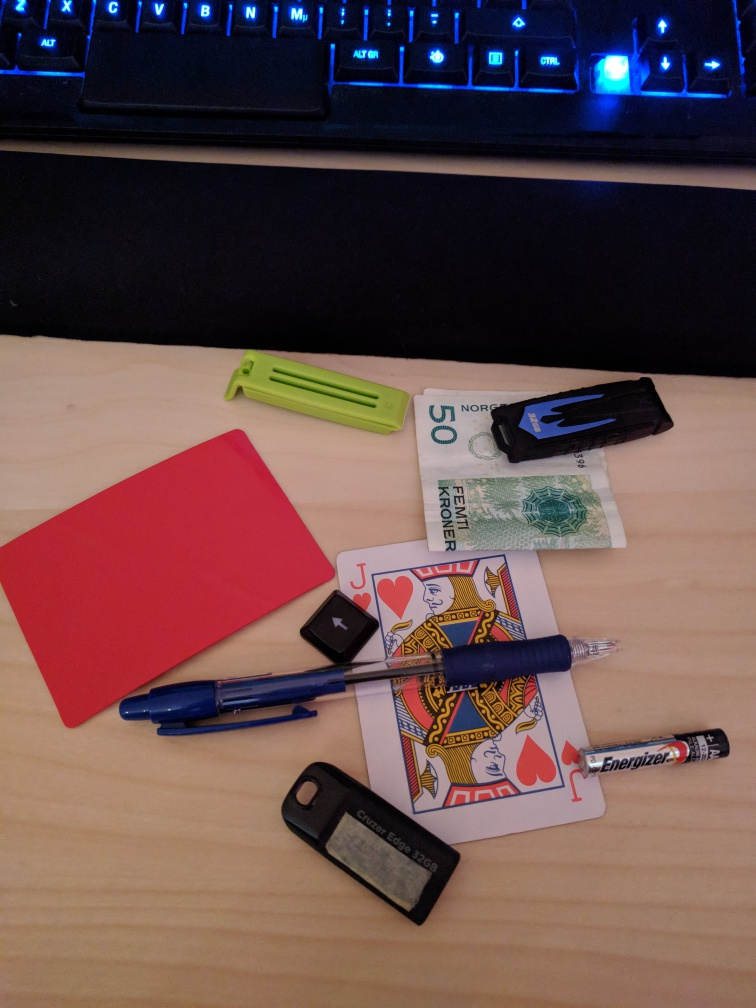jack: (333, 539, 608, 845)
